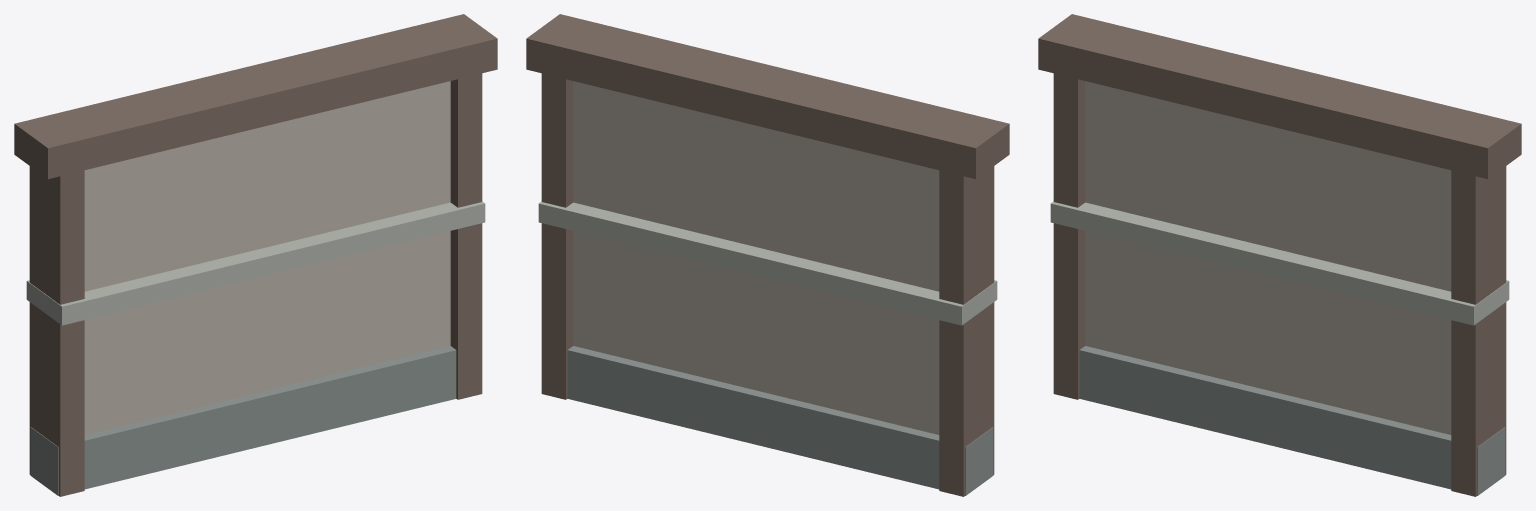
Rendered from parede_pedra_templo.glb.
3 renders of one model, left to right at view 1: azimuth 30°, elevation 25°; view 2: azimuth 150°, elevation 25°; view 3: azimuth 330°, elevation 25°, orthographic.
Visible parts, largest first — view 1: parede_pedra_templo_part_001, parede_pedra_templo_part_004, parede_pedra_templo_part_000, parede_pedra_templo_part_002, parede_pedra_templo_part_005, parede_pedra_templo_part_003; view 2: parede_pedra_templo_part_001, parede_pedra_templo_part_004, parede_pedra_templo_part_000, parede_pedra_templo_part_002, parede_pedra_templo_part_005, parede_pedra_templo_part_003; view 3: parede_pedra_templo_part_001, parede_pedra_templo_part_004, parede_pedra_templo_part_000, parede_pedra_templo_part_003, parede_pedra_templo_part_005, parede_pedra_templo_part_002.
Part boxes in pixels (x1,y1,x2,y2): parede_pedra_templo_part_001: (84,81,450,434); parede_pedra_templo_part_004: (14,14,497,179); parede_pedra_templo_part_000: (30,346,456,495); parede_pedra_templo_part_002: (29,166,84,496); parede_pedra_templo_part_005: (26,201,485,325); parede_pedra_templo_part_003: (450,73,482,399); parede_pedra_templo_part_001: (573,81,939,434); parede_pedra_templo_part_004: (526,14,1009,179); parede_pedra_templo_part_000: (567,346,993,495); parede_pedra_templo_part_002: (939,166,994,496); parede_pedra_templo_part_005: (538,201,997,325); parede_pedra_templo_part_003: (541,73,573,399); parede_pedra_templo_part_001: (1085,81,1451,434); parede_pedra_templo_part_004: (1038,14,1521,179); parede_pedra_templo_part_000: (1079,346,1505,495); parede_pedra_templo_part_003: (1451,166,1506,496); parede_pedra_templo_part_005: (1050,201,1509,325); parede_pedra_templo_part_002: (1053,73,1085,399).
Size of the model in its own units: 4.25 by 3.19 by 0.58.
